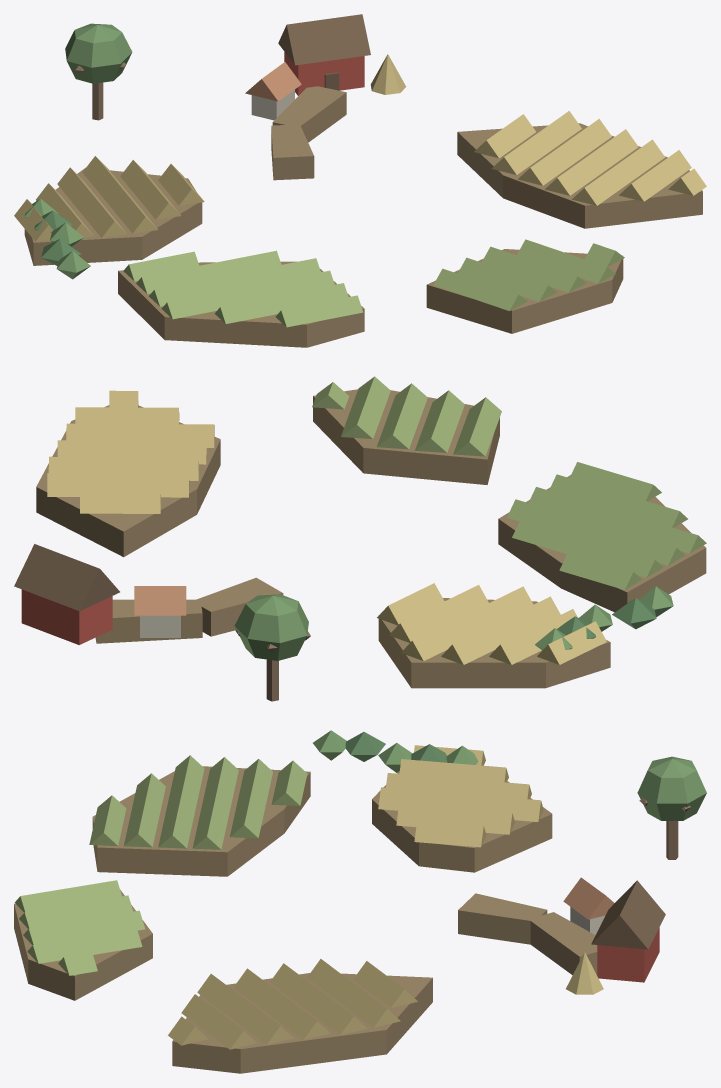
Rendered from farm-grassland.glb.
3 renders of one model, top to bottom at view 1: azimuth 30°, elevation 25°; view 2: azimuth 150°, elevation 25°; view 3: azimuth 270°, elevation 25°, orthographic. The views are drawn at different scales.
Parts seen in each view (by area): view 1: LOD0; view 2: LOD0; view 3: LOD0.
Boxes of the visible parts, x1=… form: LOD0: x1=14, y1=14, x2=706, y2=347; LOD0: x1=14, y1=376, x2=706, y2=701; LOD0: x1=14, y1=730, x2=706, y2=1073.
Size of what is drawn, in the model's own units: 1.65 by 0.29 by 1.59.
